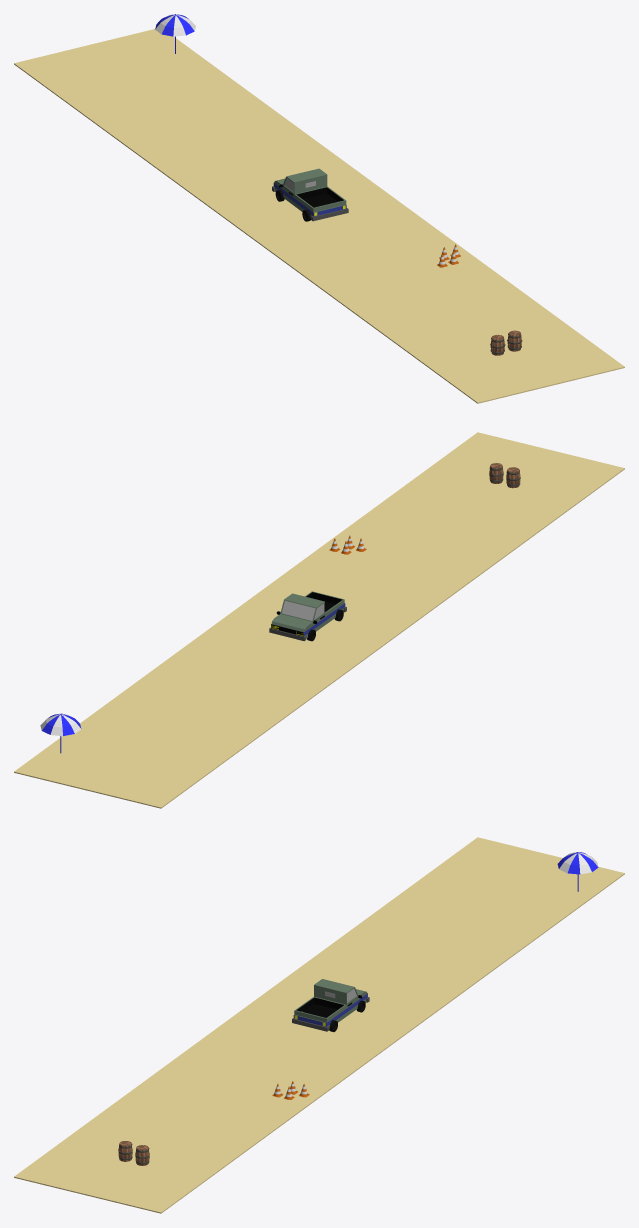
File: tile 1.fbx
3 views of the same model, one above another, from view 1: azimuth 30°, elevation 25°; view 2: azimuth 150°, elevation 25°; view 3: azimuth 330°, elevation 25° (orthographic).
Parts seen in each view (by area): view 1: Cube.022, Cube.037, Cylinder.031; view 2: Cube.022, Cube.037, Cylinder.031; view 3: Cube.022, Cube.037, Cylinder.031.
Part boxes in pixels (x1,y1,x2,y2): Cube.022: (14,29,624,403); Cube.037: (273,168,346,218); Cylinder.031: (155,14,195,53); Cube.022: (14,432,624,808); Cube.037: (271,591,345,638); Cylinder.031: (40,713,81,753); Cube.022: (14,837,624,1213); Cube.037: (293,979,367,1028); Cylinder.031: (557,852,598,891).
Bounding box in the file's own units: 201 × 52.21 × 1091.
